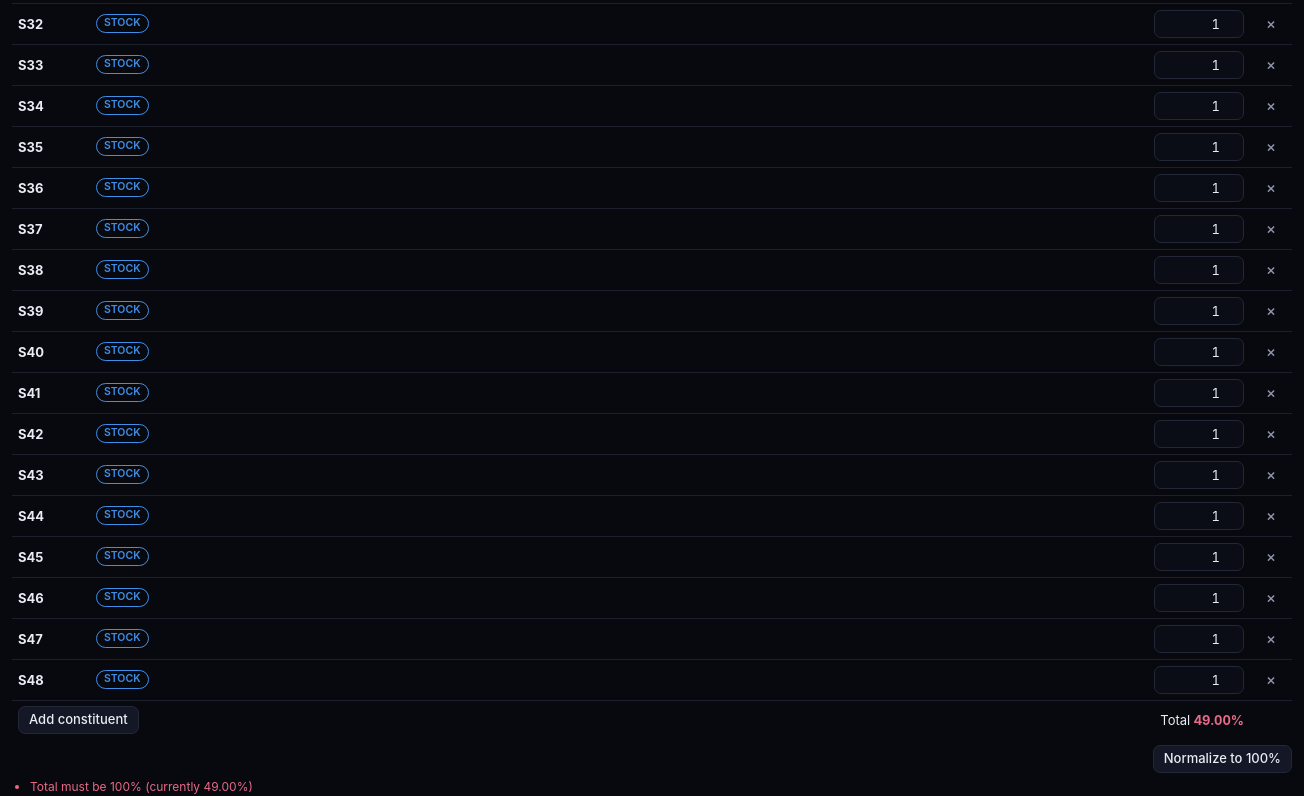
Test: WeightsTable › caps a version at 50 constituents: "Add constituent" disabled with a hint
(page scrolled)
Click the button "Add constituent" at (78, 720), box [18, 706, 139, 734]
(page scrolled)
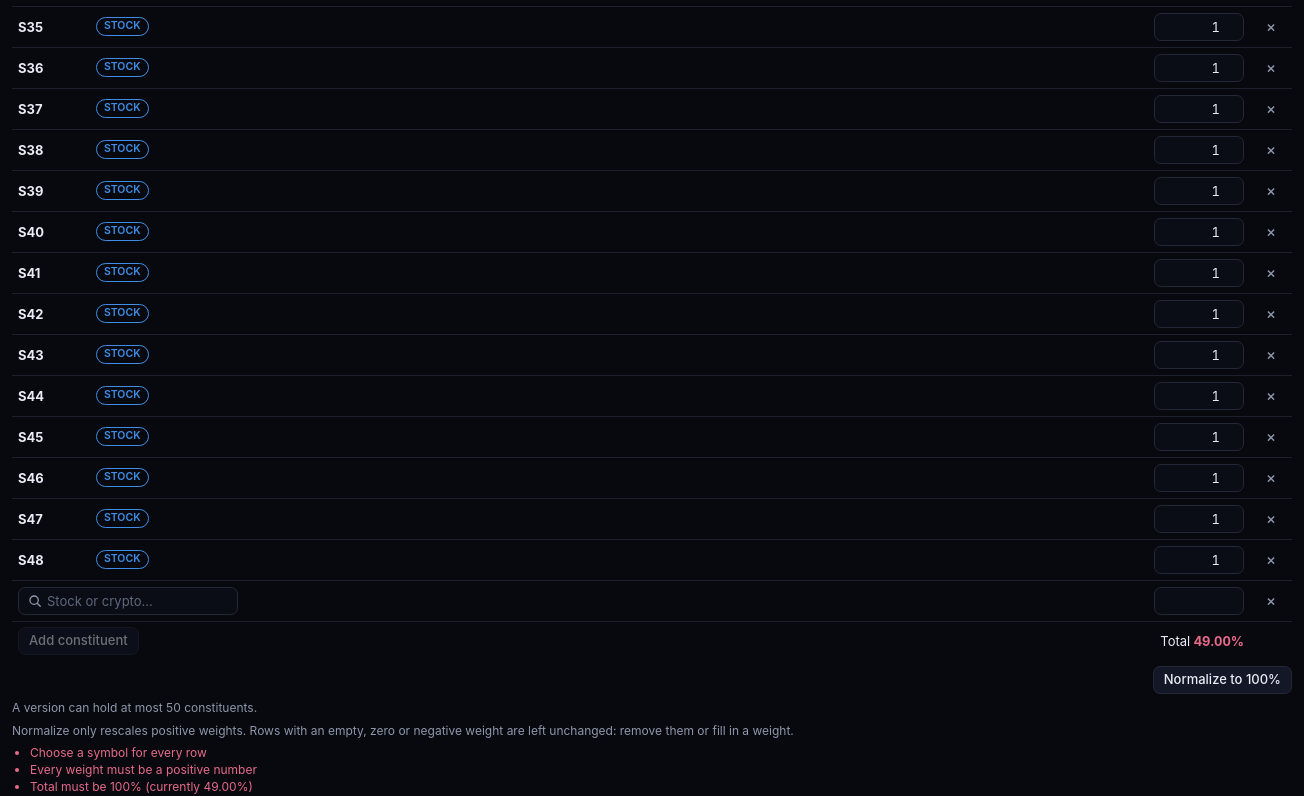
Expected: the button "Add constituent" is disabled, [18, 627, 139, 655]
Expected: the text with test id "constituent-limit" shows "at most 50 constituents", [12, 700, 257, 715]
